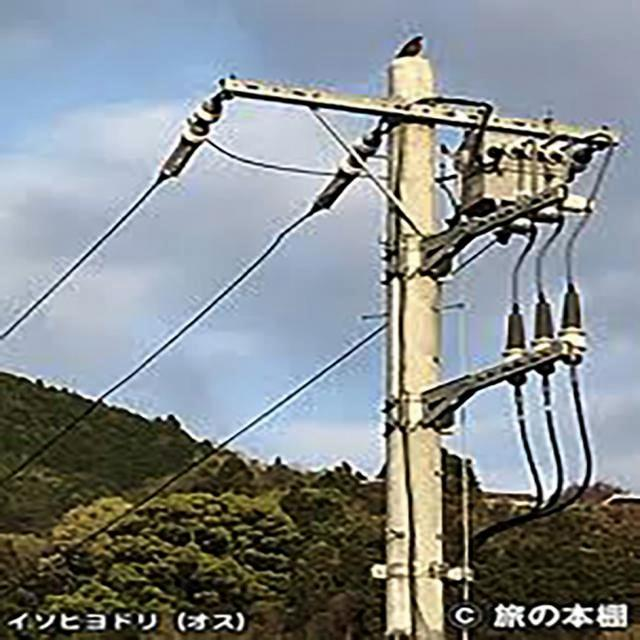crossarm: (219, 78, 615, 149), (426, 339, 570, 424), (425, 192, 562, 278)
pole: (386, 37, 445, 640)
transformer: (457, 158, 569, 224)
wire: (0, 321, 386, 606), (4, 199, 332, 486), (0, 165, 169, 345), (460, 366, 595, 567), (206, 138, 389, 181), (512, 373, 563, 527), (501, 387, 543, 531), (537, 218, 572, 293), (562, 211, 594, 289), (593, 147, 619, 203), (509, 257, 527, 319)
